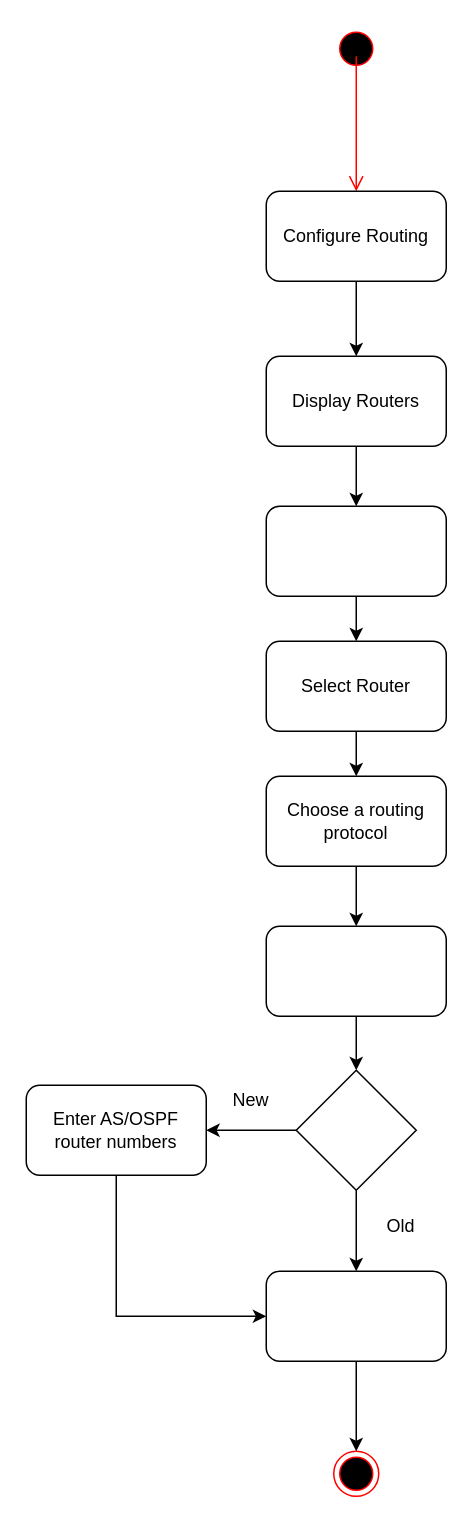
This 473x1523 diagram has some shape labels left out. The shapes that lost their labels are listed below. From the top down, each one's centre as x and y in pixels, then its label:
At pixel 355 550: "Display IP Route And Current Routing Protocols".
At pixel 355 970: "Prompt to Make New Routing Or Edit Existing".
At pixel 355 1315: "Assign Network Addresses into protocols".
